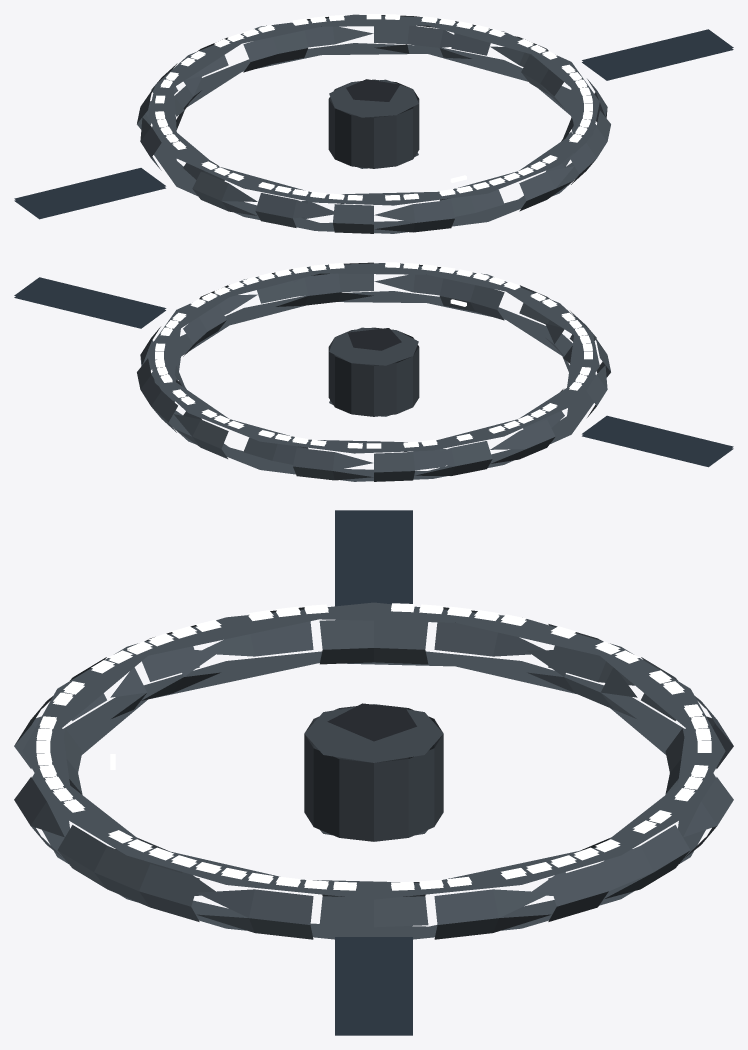
The model's file is od_waystation_lod.glb.
The picture shows the model from 3 angles, top to bottom: view 1: azimuth 30°, elevation 25°; view 2: azimuth 150°, elevation 25°; view 3: azimuth 270°, elevation 25°; orthographic projection. The views are drawn at different scales.
Visible parts, largest first — view 1: od_waystation_lod_body, od_waystation_lod_lit_emit; view 2: od_waystation_lod_body, od_waystation_lod_lit_emit; view 3: od_waystation_lod_body, od_waystation_lod_lit_emit.
Boxes of the visible parts, x1,y1,x2,y2 form: od_waystation_lod_body: (14,14,733,233); od_waystation_lod_lit_emit: (155,14,592,200); od_waystation_lod_body: (14,262,733,481); od_waystation_lod_lit_emit: (155,262,592,448); od_waystation_lod_body: (14,510,733,1035); od_waystation_lod_lit_emit: (36,603,711,890).
Bounding box in the file's own units: 142 × 11.5 × 82.72.
